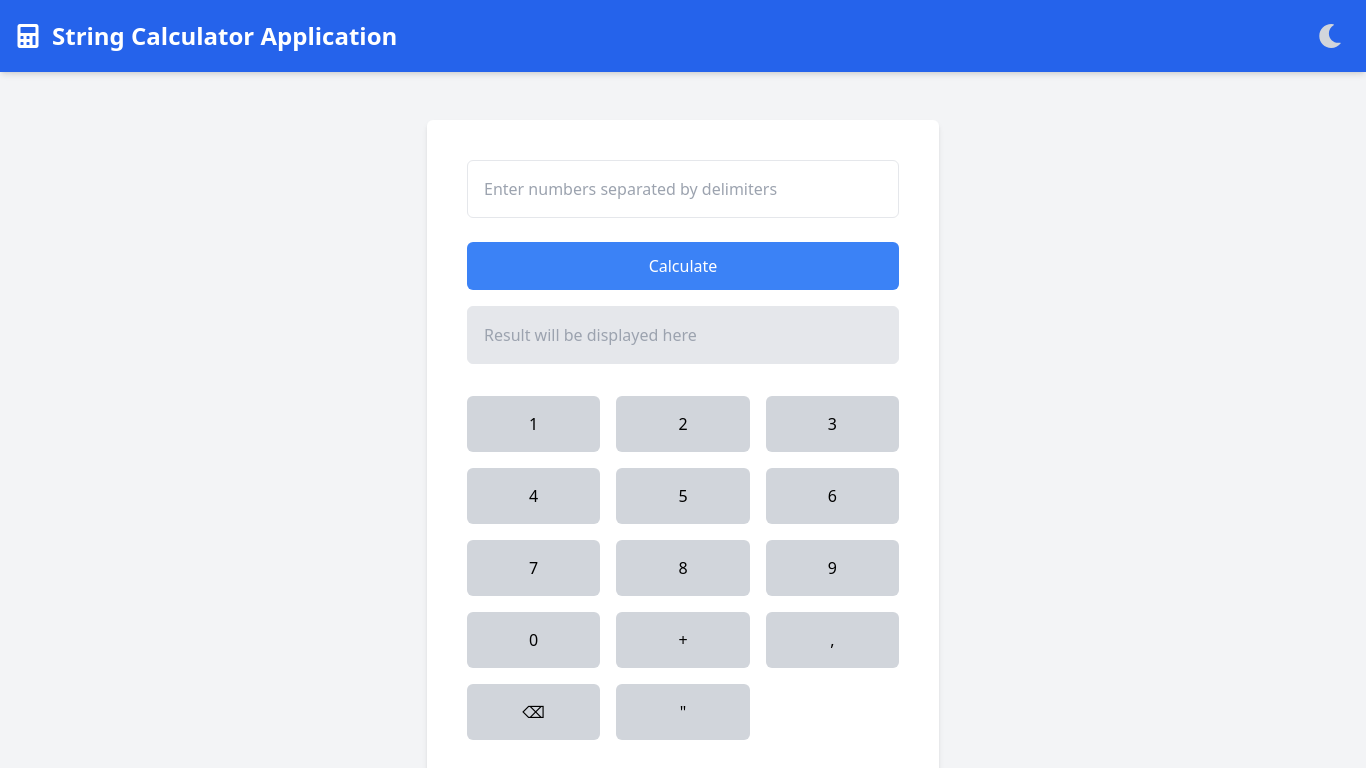
Test: HomePage Component › displays an error message for negative numbers
Enter negative numbers into the input field
Type "1,-2,3" into the field with placeholder "Enter numbers separated by delimiters" at (683, 189), box [467,160,899,218]
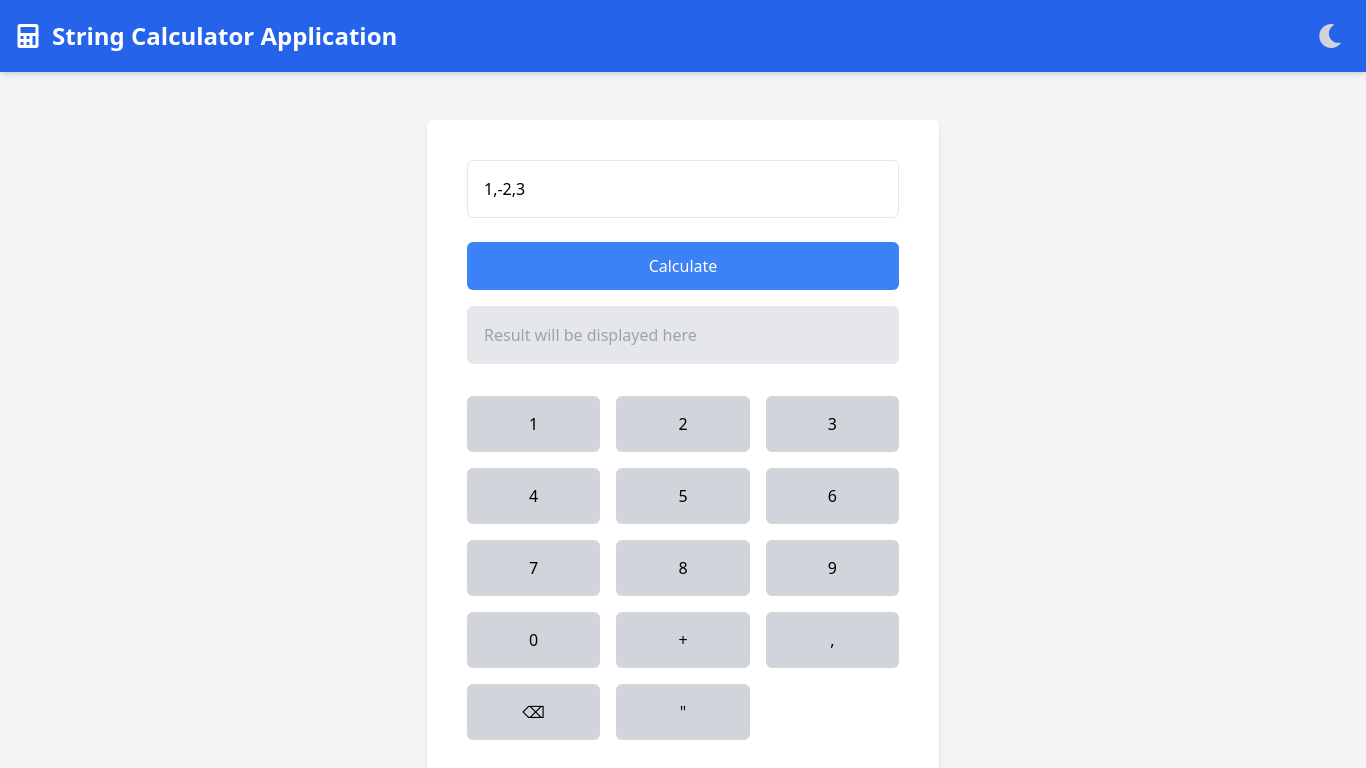
Click the button "Calculate" at (683, 266), box [467,242,899,290]
(page scrolled)
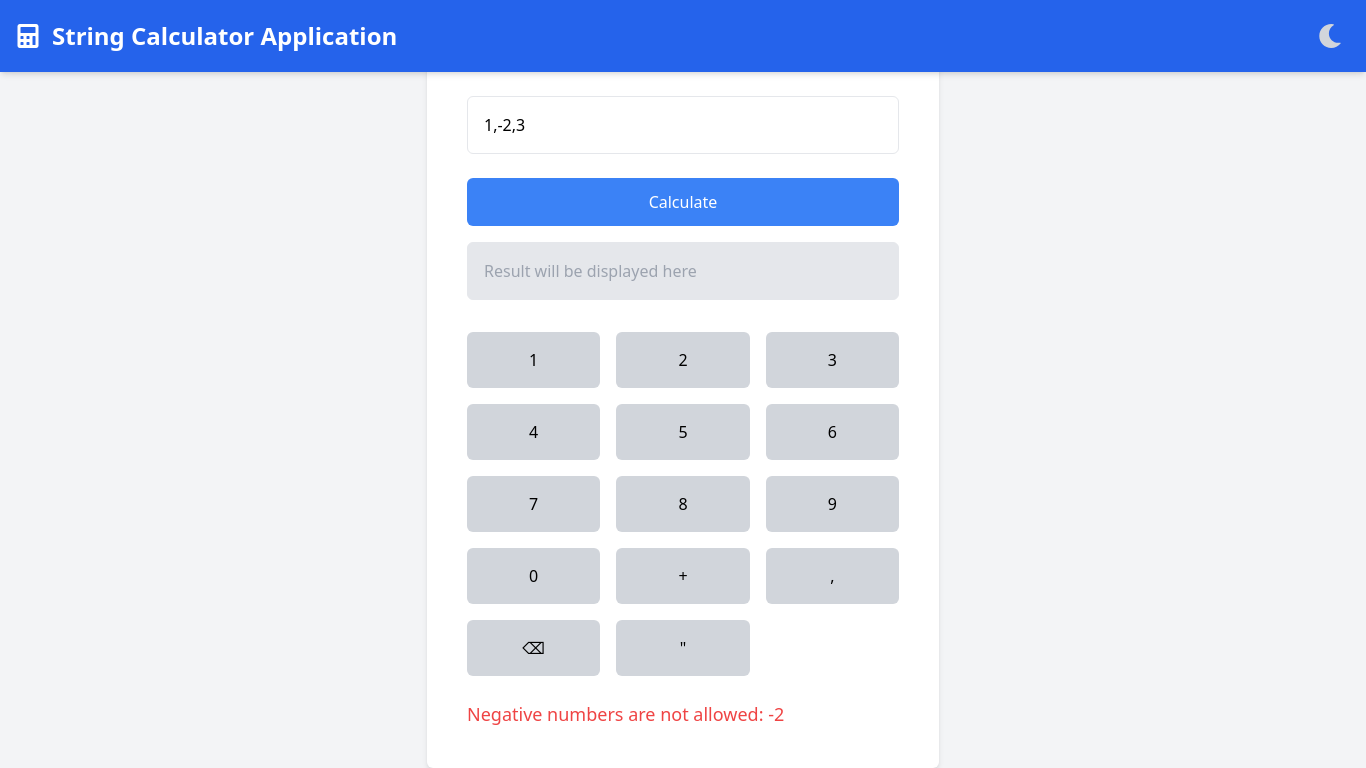
Check: the text with test id "error-message" reads "Negative numbers are not allowed: -2", box [467,702,784,726]
